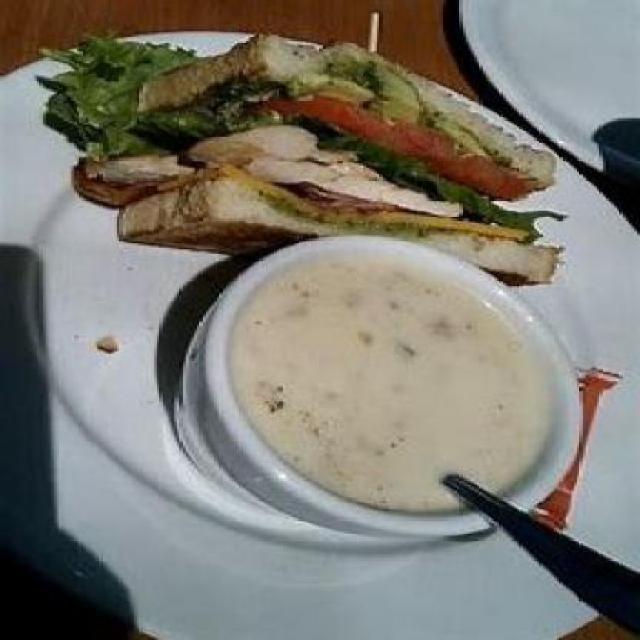clam chowder: (194, 264, 592, 507)
club sandwich: (86, 31, 563, 255)
